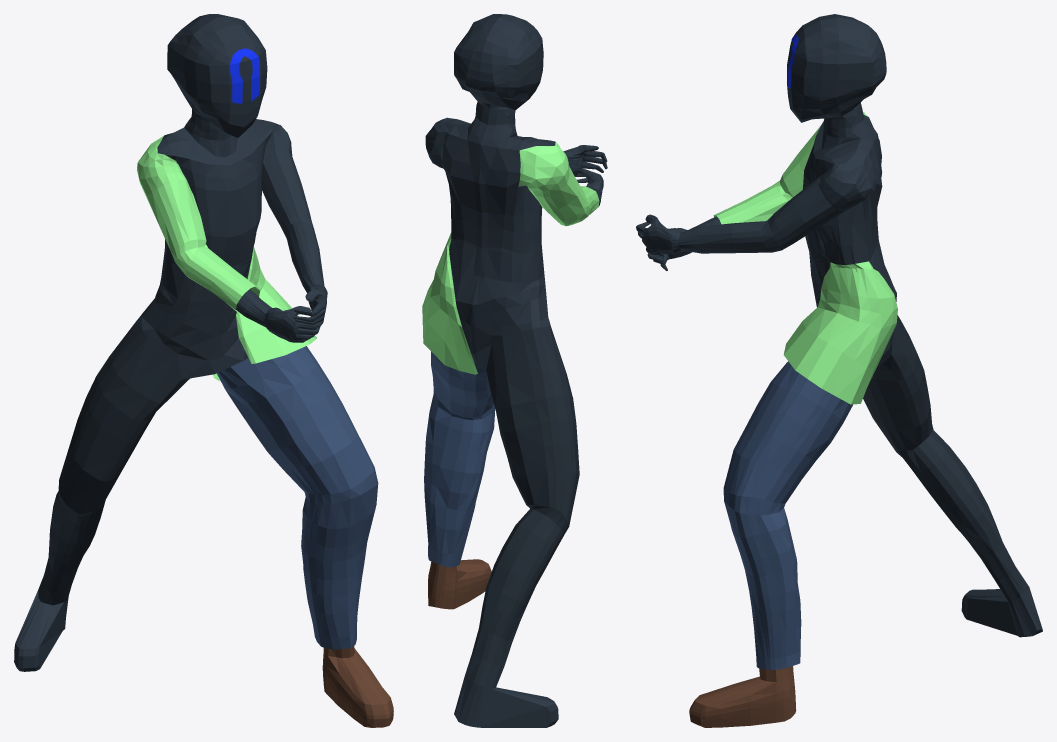
The model's file is Mar_WL_000019.obj.
The picture shows the model from 3 angles, left to right: view 1: azimuth 30°, elevation 25°; view 2: azimuth 150°, elevation 25°; view 3: azimuth 270°, elevation 25°; orthographic projection. The views are drawn at different scales.
Visible parts, largest first — view 1: Cube.000_Cube.001; view 2: Cube.000_Cube.001; view 3: Cube.000_Cube.001.
Boxes of the visible parts, <box> form: Cube.000_Cube.001: <box>14,14,393,727</box>; Cube.000_Cube.001: <box>422,14,607,727</box>; Cube.000_Cube.001: <box>636,14,1042,727</box>.
Size of the model in its own units: 1.39 by 3.72 by 2.08.
